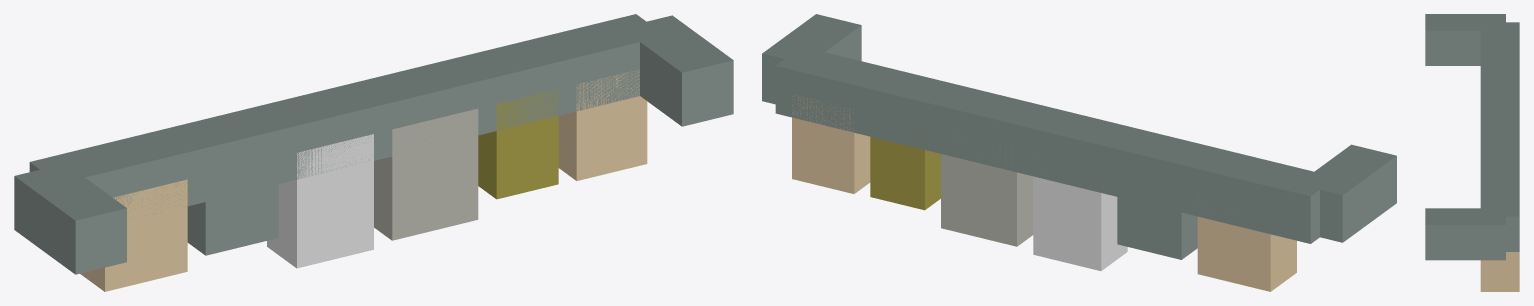
File: SM_Tendedero_v3_Balcon_LOD1.fbx
3 renders of one model, left to right at view 1: azimuth 30°, elevation 25°; view 2: azimuth 150°, elevation 25°; view 3: azimuth 270°, elevation 25°, orthographic. The views are drawn at different scales.
Visible parts, largest first — view 1: SM_vida_fuerte_v8_LOD1; view 2: SM_vida_fuerte_v8_LOD1; view 3: SM_vida_fuerte_v8_LOD1.
Boxes of the visible parts, bbox=[...] form: SM_vida_fuerte_v8_LOD1: bbox=[14, 14, 733, 291]; SM_vida_fuerte_v8_LOD1: bbox=[762, 14, 1396, 291]; SM_vida_fuerte_v8_LOD1: bbox=[1425, 14, 1519, 291].
Size of the model in its own units: 4.34 by 0.8994 by 0.82.
